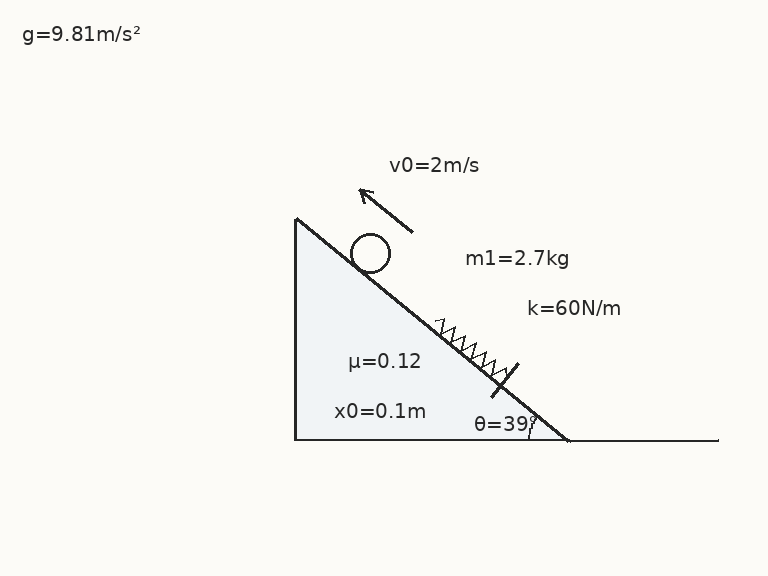ball: (348, 231, 392, 275)
ramp: (293, 216, 571, 442)
spring: (433, 317, 508, 380)
